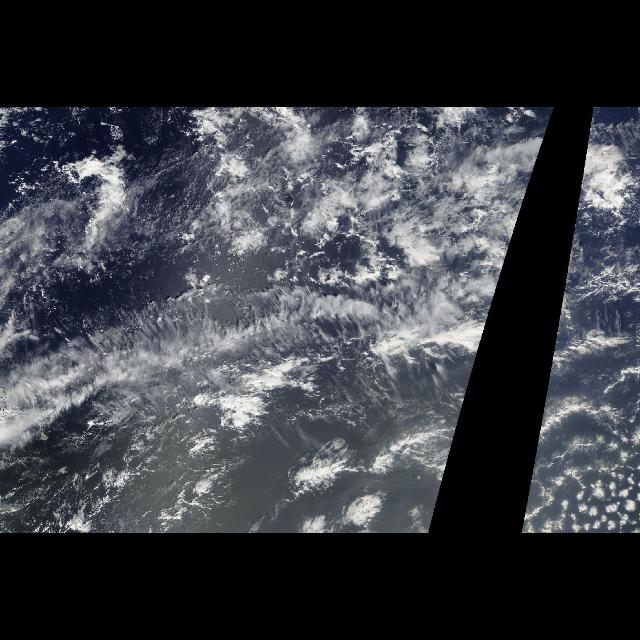Fish: (4, 184, 532, 442), (549, 184, 639, 370)
Flower: (123, 364, 475, 534), (520, 364, 640, 534)
Gravel: (181, 210, 421, 302)
